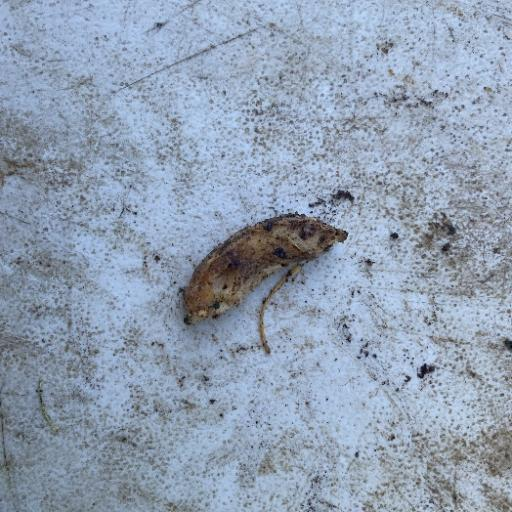Waste: (180, 211, 349, 355)
